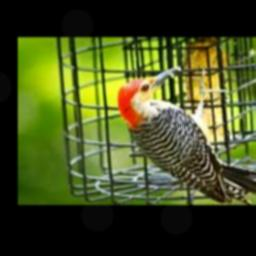Woodpecker: (117, 65, 256, 204)
